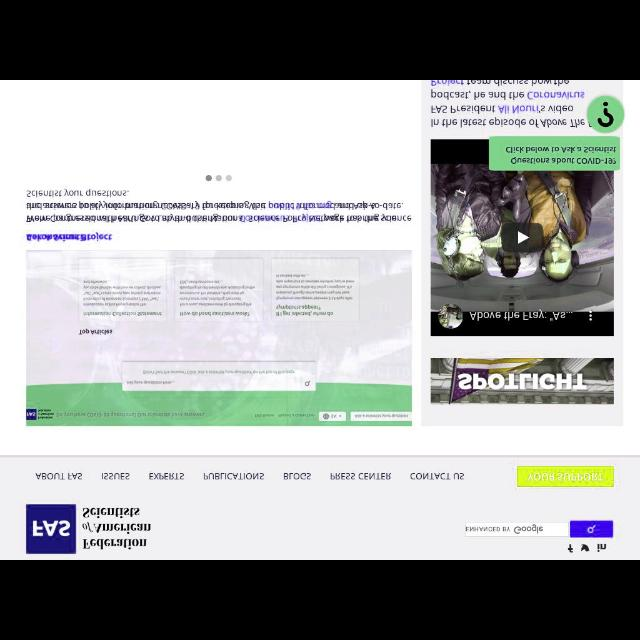button: (587, 95, 625, 133), (569, 520, 613, 538)
icon: (598, 101, 614, 127), (586, 524, 596, 534)
image: (26, 251, 410, 427), (431, 139, 614, 337), (430, 358, 614, 404), (25, 502, 77, 554), (580, 544, 590, 552), (568, 544, 574, 554)
input: (465, 522, 569, 536)
multitab: (30, 469, 468, 483)
pageindicator: (205, 174, 233, 182)
panel: (422, 80, 622, 423)
text: (25, 188, 415, 224), (429, 82, 591, 128), (80, 504, 154, 552), (506, 144, 618, 164), (26, 230, 112, 242), (526, 470, 604, 482), (466, 524, 544, 534), (202, 471, 266, 481), (330, 470, 392, 480), (409, 470, 465, 480), (34, 472, 82, 480), (148, 471, 184, 481), (100, 472, 130, 481), (283, 472, 311, 480), (597, 542, 607, 552)
textbutton: (515, 466, 615, 488)
